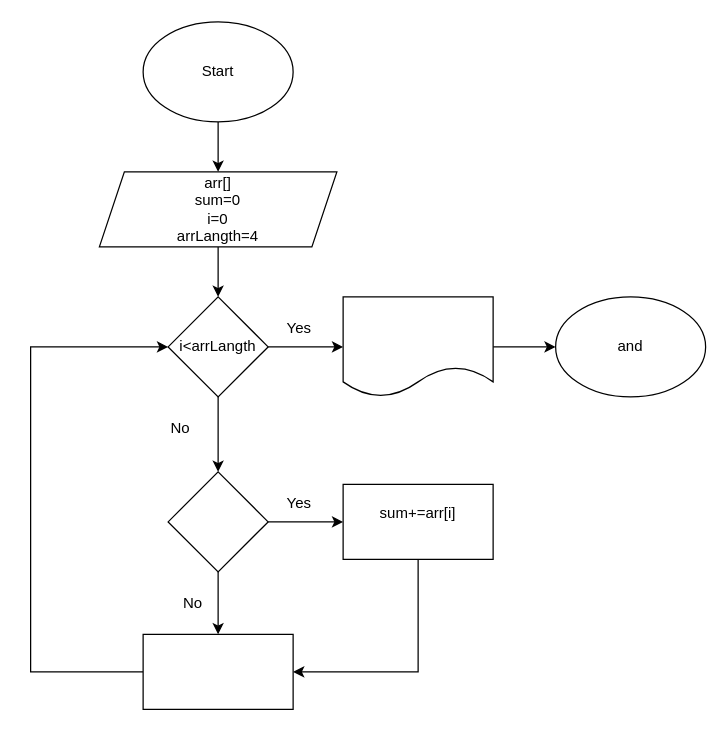
The diagram is 728 pixels wide and 731 high, and some of its shapes have lost their labels. The shapes that lost their labels are listed below. From the top down, each one's box as (x1, y1, x2, y2) in pixels, then its label:
(342, 296, 493, 397): sum
(167, 471, 268, 572): arr[i]%2=1
(142, 633, 293, 709): i+=1
